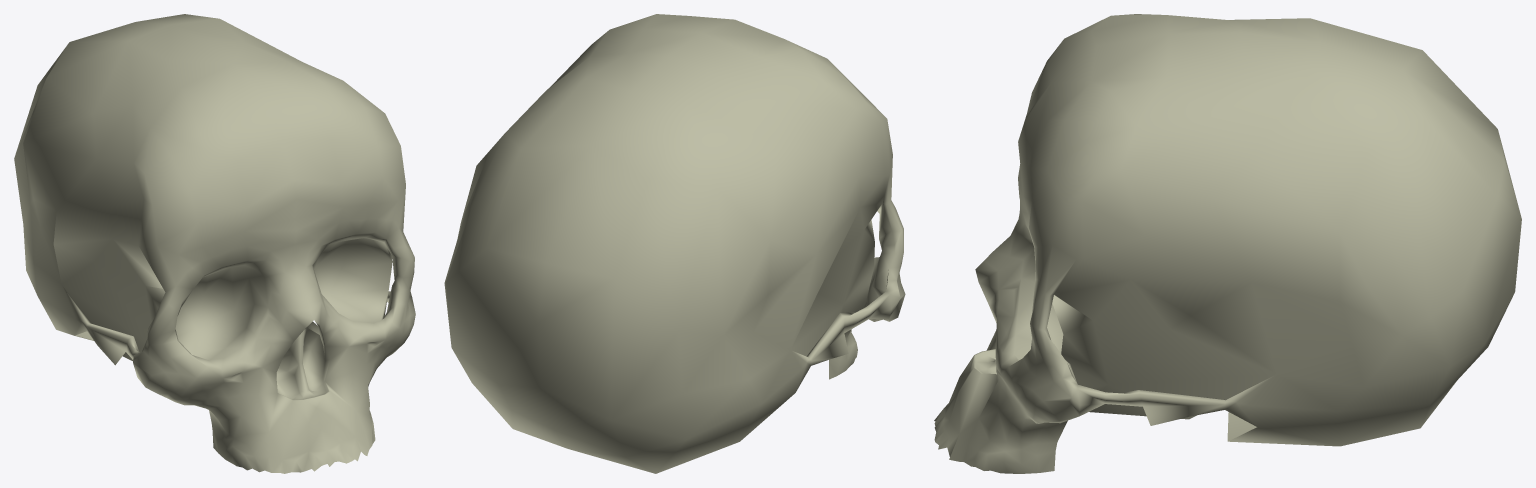
File: skull.obj
3 views of the same model, side by side, from view 1: azimuth 30°, elevation 25°; view 2: azimuth 150°, elevation 25°; view 3: azimuth 270°, elevation 25° (orthographic). The views are drawn at different scales.
Visible parts, largest first — view 1: skull.001_skullplane.002; view 2: skull.001_skullplane.002; view 3: skull.001_skullplane.002.
Part boxes in pixels (x1=…): skull.001_skullplane.002: x1=14, y1=14, x2=415, y2=473; skull.001_skullplane.002: x1=444, y1=14, x2=905, y2=473; skull.001_skullplane.002: x1=934, y1=14, x2=1521, y2=473.
Size of the model in its own units: 5.21 by 5.95 by 7.88.
